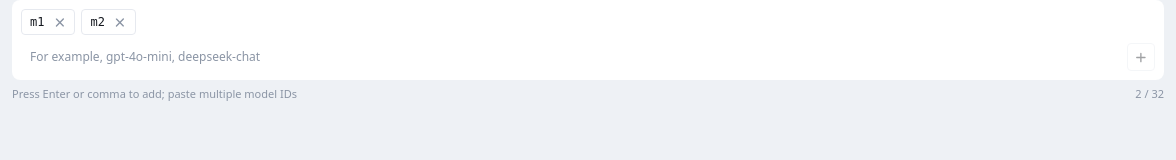
Test case: ModelIdEditor › removes last chip on Backspace when input is empty
This screenshot has width=1176, height=160.
Click the field named "Models" at (571, 57), box [21,43,1121,71]
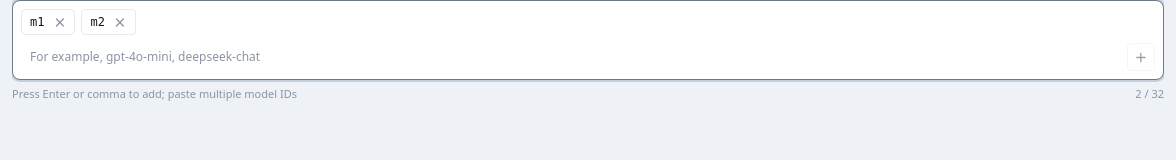
Press Backspace
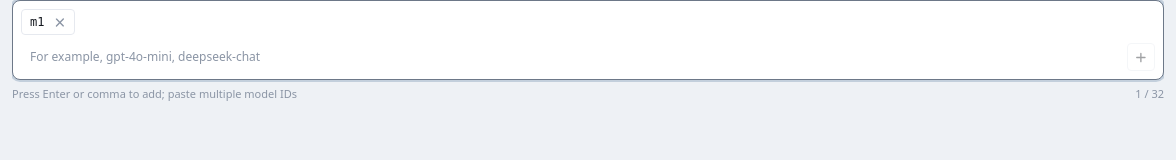
Expected: the text "m1" is shown, [30,15,44,29]
Result: the text "m2" is gone
